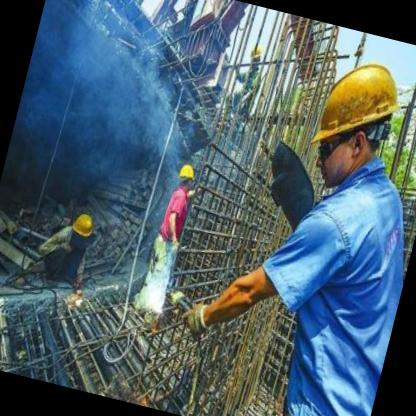bee: (294, 42, 414, 203), (66, 210, 97, 250), (174, 158, 198, 193), (246, 39, 266, 72)
